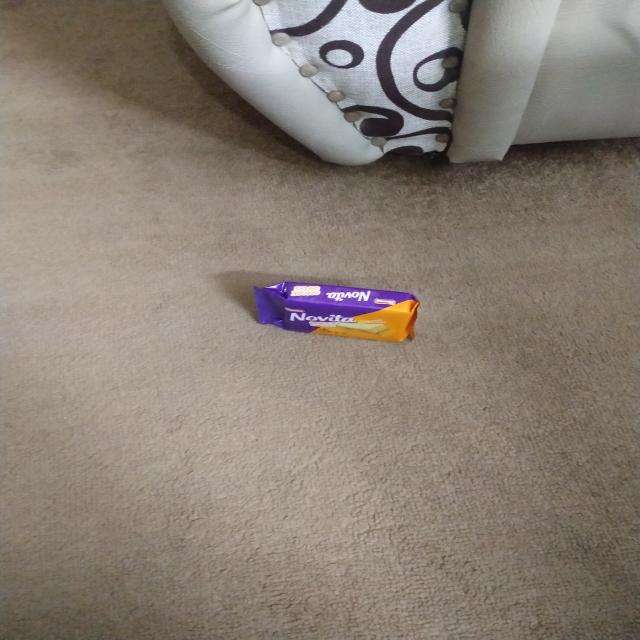Plastic: (260, 285, 427, 344)
